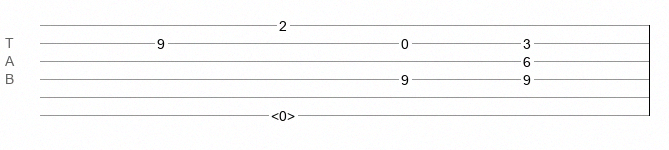0: (401, 36, 409, 46)
2: (279, 18, 287, 28)
3: (523, 36, 531, 46)
6: (523, 54, 531, 64)
9: (157, 36, 165, 46), (401, 72, 409, 82), (523, 72, 531, 82)
harmonic: (271, 108, 295, 118)
